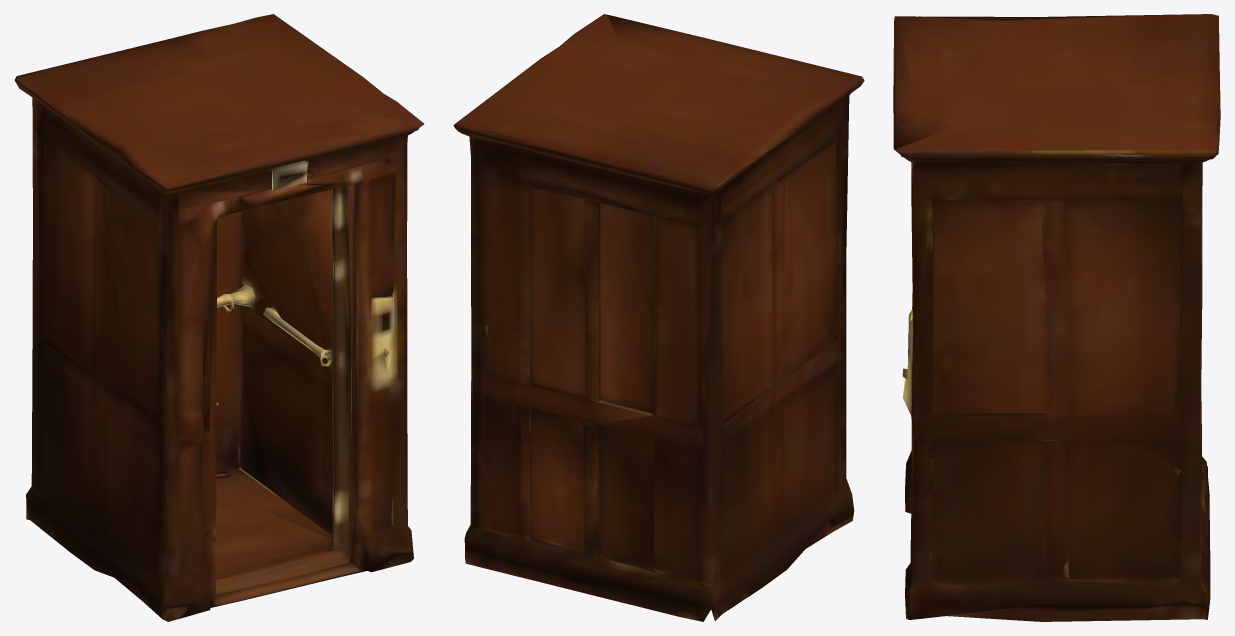
The model's file is cabina_ascensor.movil.glb.
3 views of the same model, side by side, from view 1: azimuth 30°, elevation 25°; view 2: azimuth 150°, elevation 25°; view 3: azimuth 270°, elevation 25° (orthographic). The views are drawn at different scales.
Visible parts, largest first — view 1: geometry_0; view 2: geometry_0; view 3: geometry_0.
Part boxes in pixels (x1,y1,x2,y2): geometry_0: (14,14,423,621); geometry_0: (453,14,864,621); geometry_0: (893,14,1220,621).
Size of the model in its own units: 1.5 by 2.4 by 1.5.
Materials: 1 (1 with a texture image).
